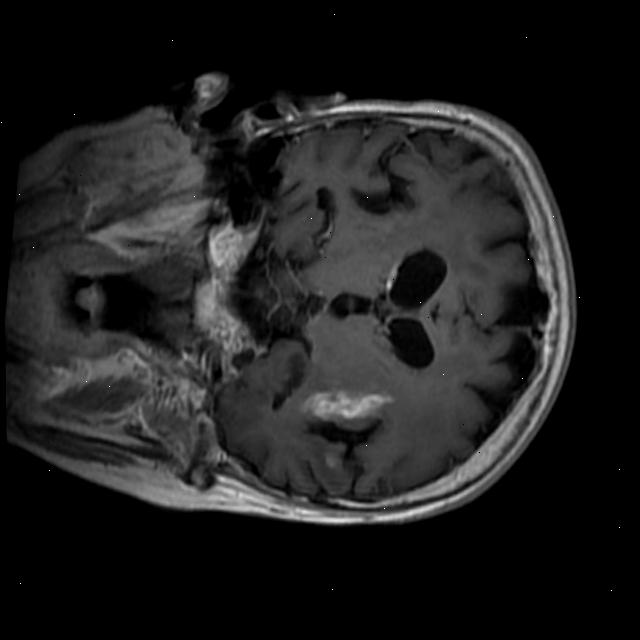Glioma: (297, 381, 394, 434)
Pituitary: (187, 272, 236, 334)
